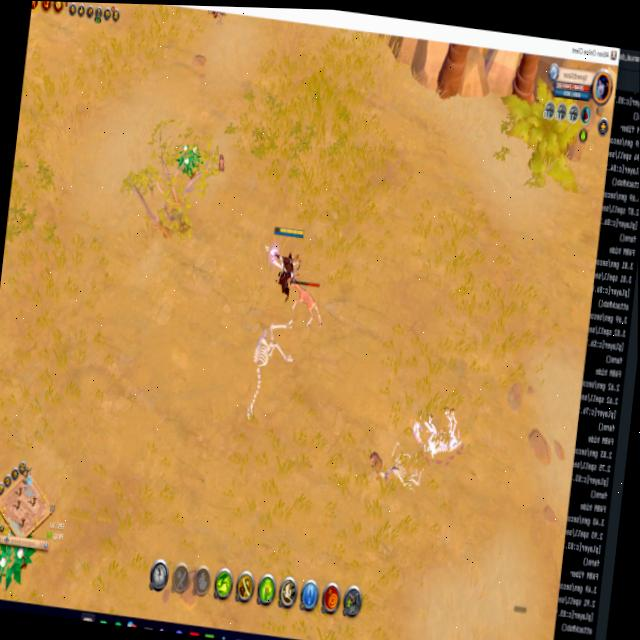hide: (0, 526, 39, 592), (175, 139, 201, 180)
ore: (283, 272, 327, 331)
red: (264, 222, 307, 301)
